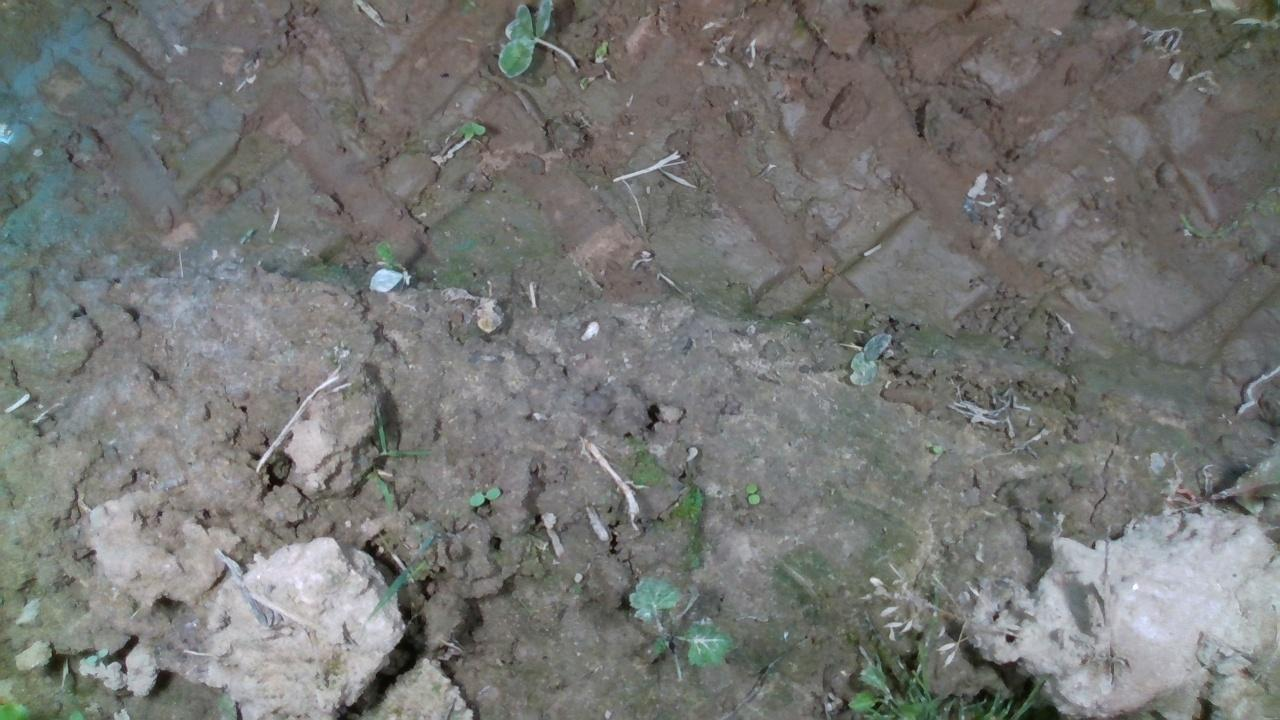weed: (467, 484, 501, 507), (742, 480, 760, 504)
